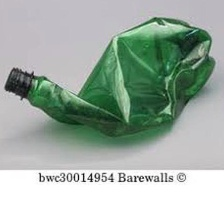bottle: (1, 12, 221, 143)
